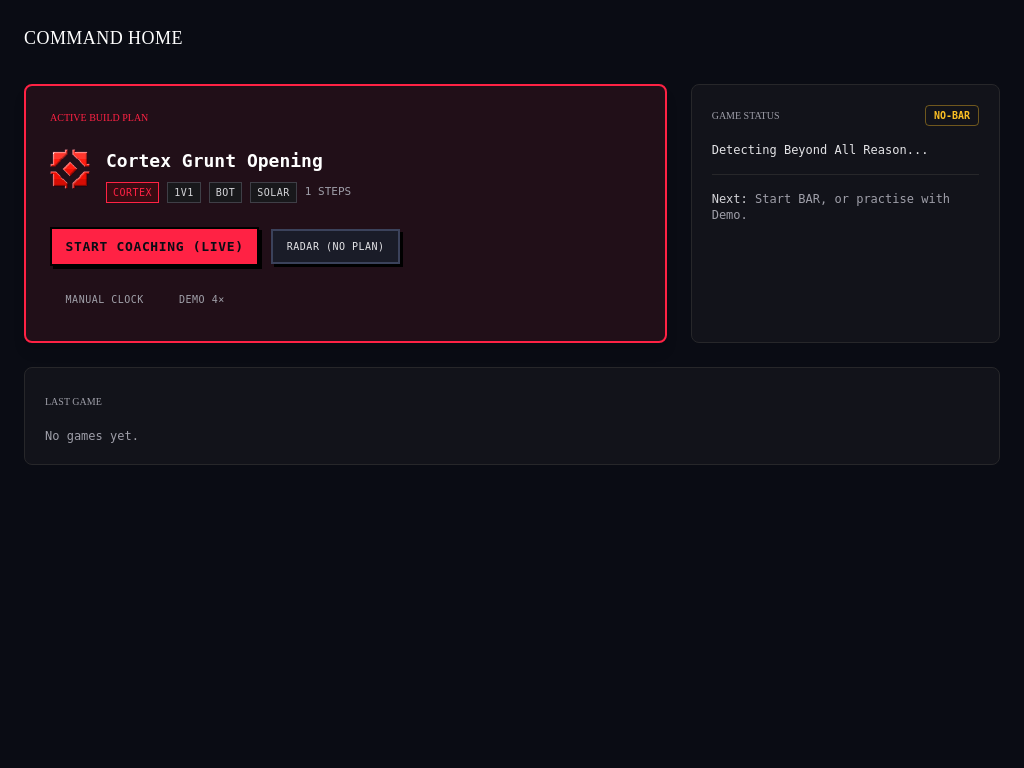
Test: HomeView › opens demo picker modal when plan does not match bundled fixture
What coordinates should you click on to do the following:
click the button with test id "home-start-demo-btn"
I would click on:
 (202, 300)
Its box is x1=163 y1=282 x2=240 y2=317.
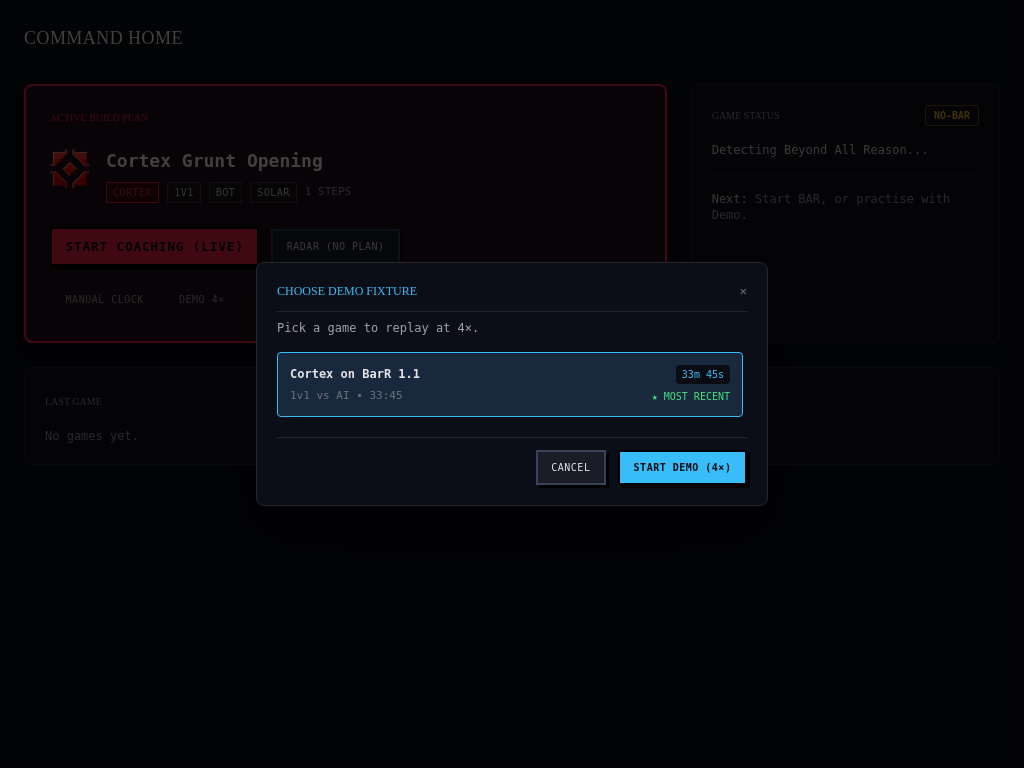
Expected: the element with test id "demo-picker-modal" is shown
